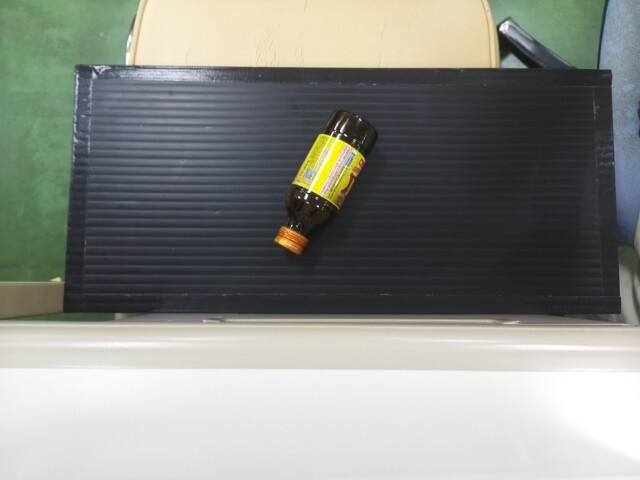glass_bottle: (268, 109, 377, 255)
